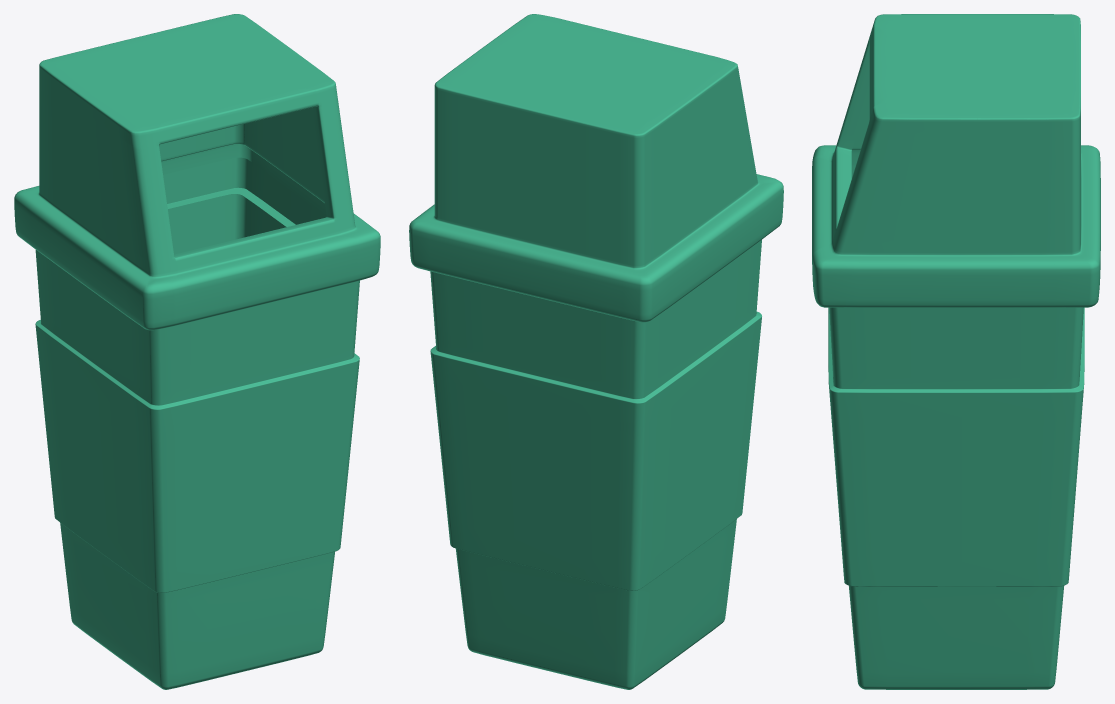
The model's file is TachoBasura.fbx.
The picture shows the model from 3 angles, left to right: view 1: azimuth 30°, elevation 25°; view 2: azimuth 150°, elevation 25°; view 3: azimuth 270°, elevation 25°; orthographic projection. The views are drawn at different scales.
Parts seen in each view (by area): view 1: TachoBasura_low; view 2: TachoBasura_low; view 3: TachoBasura_low.
Boxes of the visible parts, x1,y1,x2,y2 form: TachoBasura_low: (14,14,380,689); TachoBasura_low: (409,14,783,689); TachoBasura_low: (812,14,1100,689).
Size of the model in its own units: 1.23 by 2.75 by 1.23.
